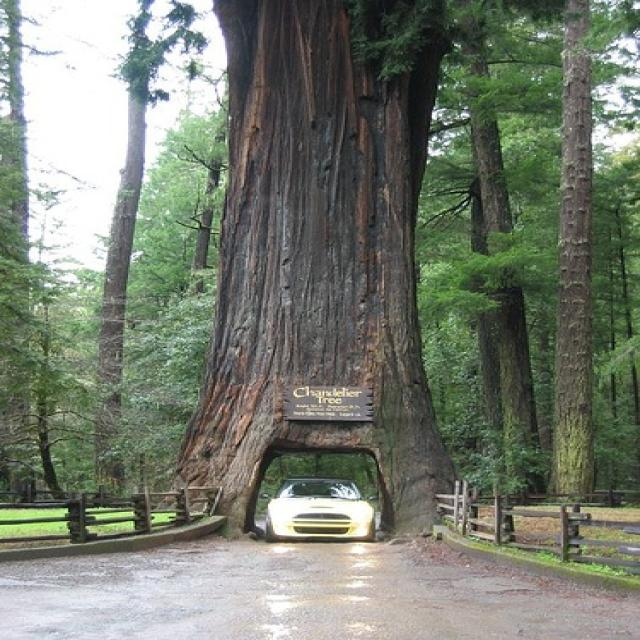car: (265, 476, 377, 543)
